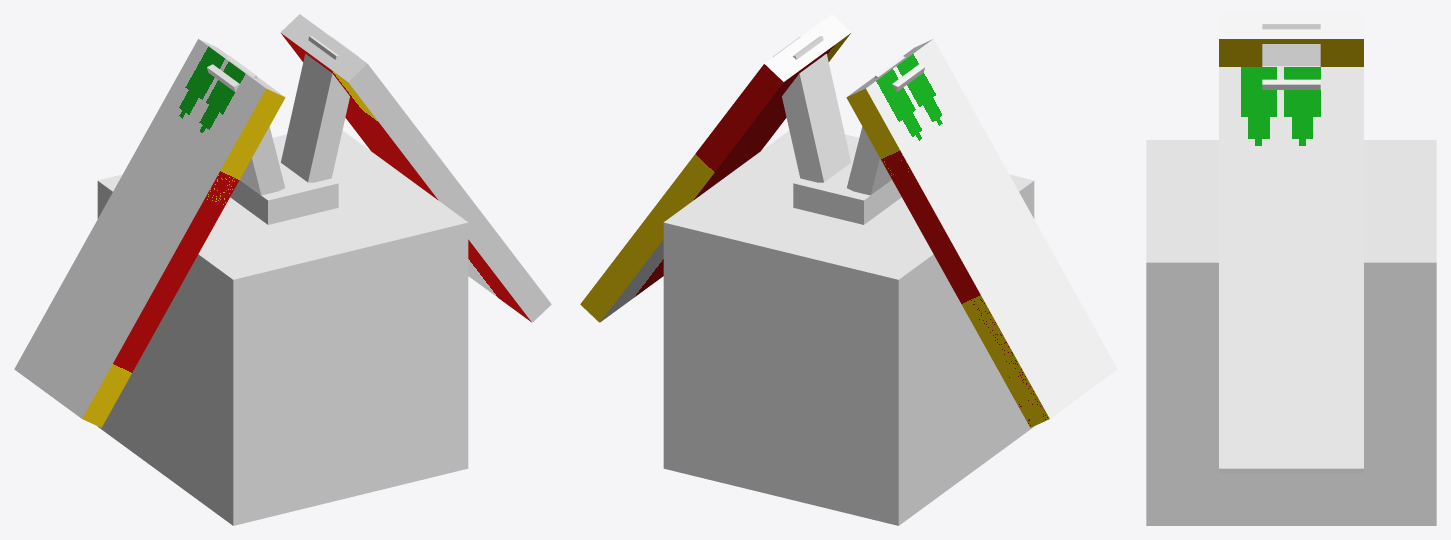
The model's file is leppa.obj.
The picture shows the model from 3 angles, left to right: view 1: azimuth 30°, elevation 25°; view 2: azimuth 150°, elevation 25°; view 3: azimuth 270°, elevation 25°; orthographic projection. The views are drawn at different scales.
Visible parts, largest first — view 1: Leppa; view 2: Leppa; view 3: Leppa.
Boxes of the visible parts, bbox=[...] form: Leppa: bbox=[14, 14, 551, 525]; Leppa: bbox=[580, 14, 1117, 525]; Leppa: bbox=[1146, 14, 1436, 525].
Bounding box in the file's own units: 0.4994 × 0.4026 × 0.25.
